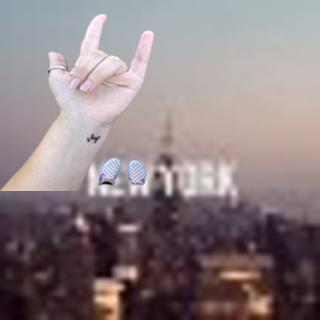ILY: (41, 9, 159, 129)
